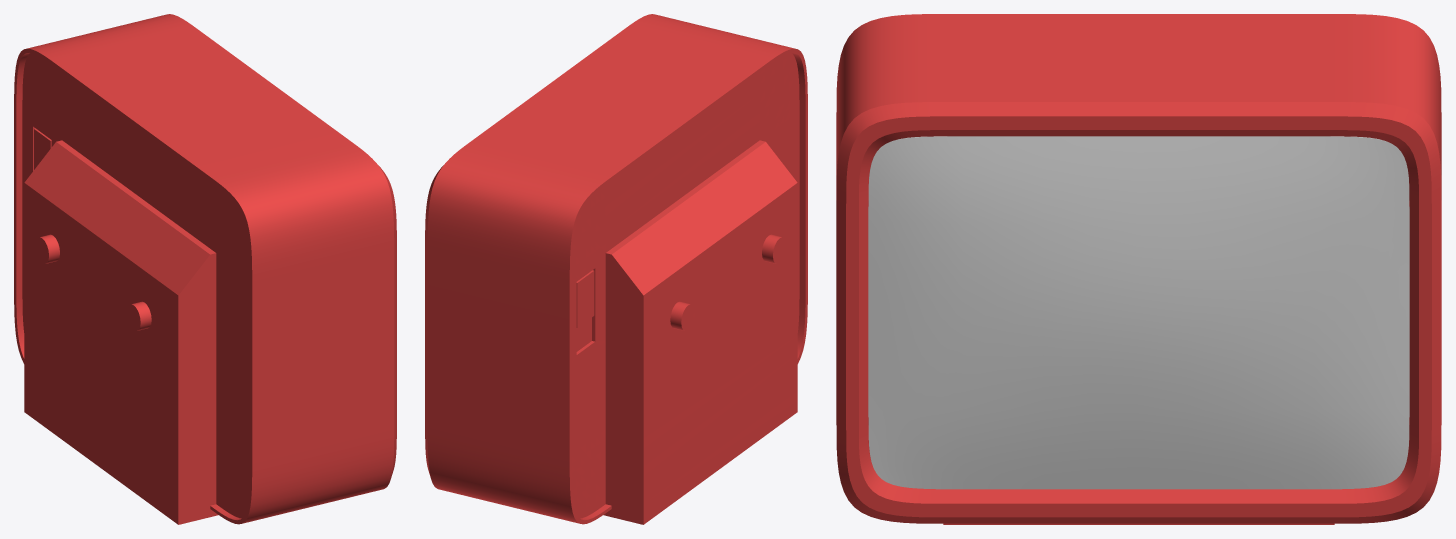
The model's file is clock.gltf.
The picture shows the model from 3 angles, left to right: view 1: azimuth 30°, elevation 25°; view 2: azimuth 150°, elevation 25°; view 3: azimuth 270°, elevation 25°; orthographic projection. The views are drawn at different scales.
Visible parts, largest first — view 1: Case; view 2: Case; view 3: Glass, Case.
Boxes of the visible parts, x1,y1,x2,y2 form: Case: (14, 14, 396, 524); Case: (425, 14, 807, 524); Glass: (868, 136, 1409, 489); Case: (836, 14, 1441, 524).
Size of the model in its own units: 0.0595 by 0.0974 by 0.1235.
